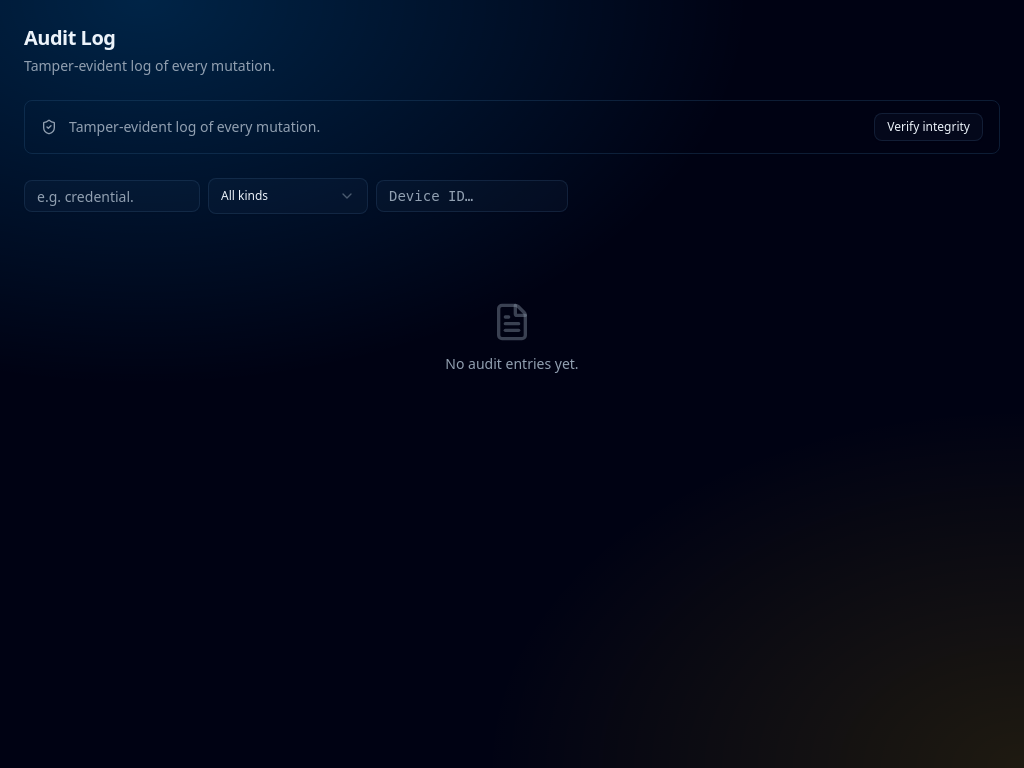
Test case: AuditPage › (e) all_valid=false 이면 red banner 와 디바이스 행을 표시한다
Expected: the element with test id "audit-empty" is shown, [445,302,579,373]
Click the button "Verify integrity".
click(929, 127)  # box [874,113,983,141]
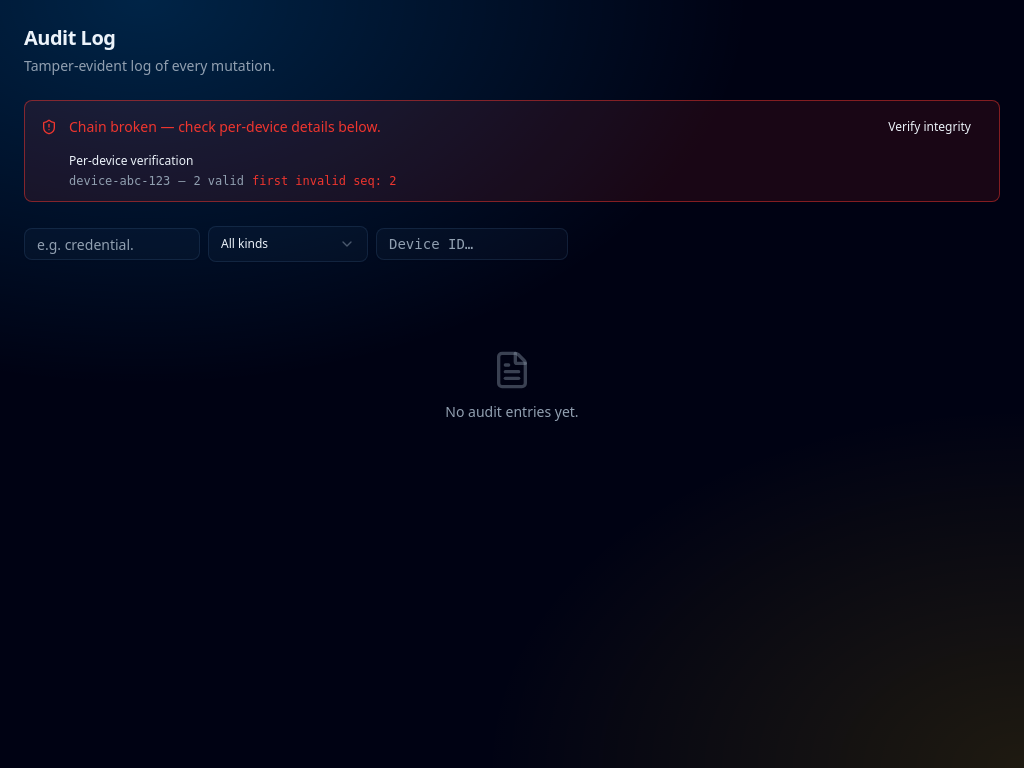
Now the message with test id "verify-failed-banner" is shown, box [24,100,1000,202]
Now the text "device-abc-123" is shown, box [69,173,170,189]
Now the text "first invalid seq: 2" is shown, box [252,173,396,189]
